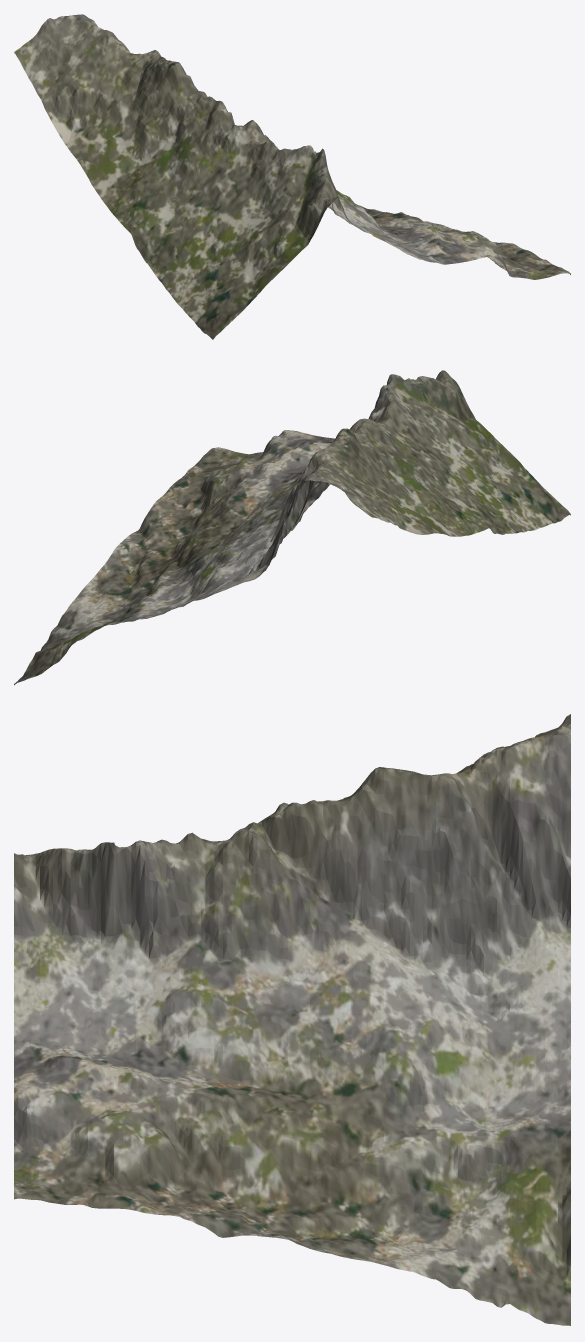
3 views of the same model, one above another, from view 1: azimuth 30°, elevation 25°; view 2: azimuth 150°, elevation 25°; view 3: azimuth 270°, elevation 25° (orthographic). The views are drawn at different scales.
Size of the model in its own units: 250 by 188 by 241.
1 material, 1 textured.
